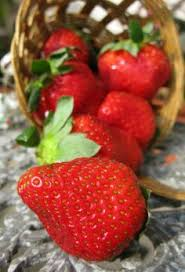ripe: (11, 155, 152, 263), (51, 114, 146, 175), (97, 34, 173, 89), (92, 92, 162, 145), (38, 65, 105, 120), (39, 25, 89, 66)
